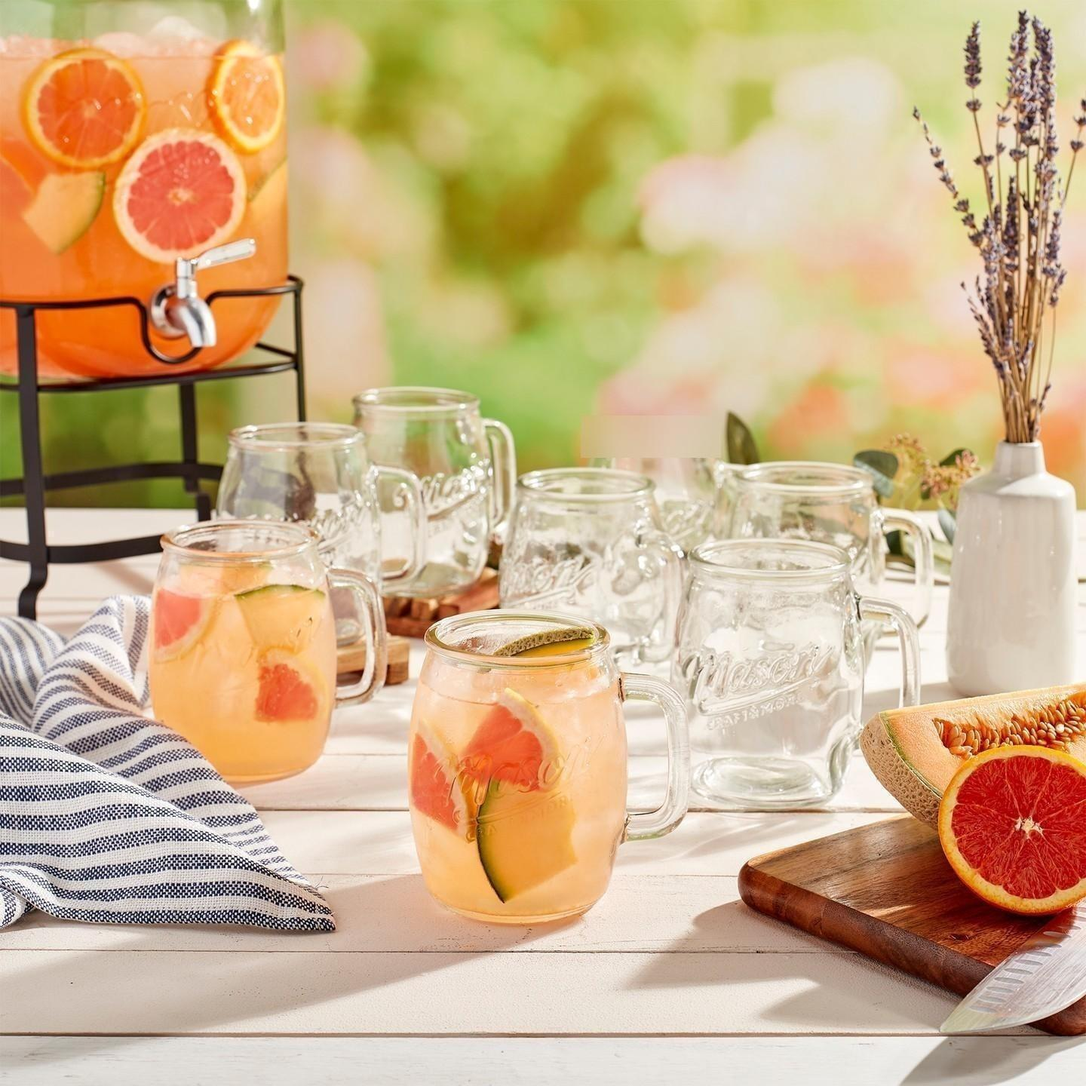glass-mug: (400, 600, 697, 940), (684, 532, 925, 819), (144, 519, 392, 790), (215, 419, 432, 646), (715, 457, 937, 643), (497, 463, 686, 670), (348, 385, 521, 602)
